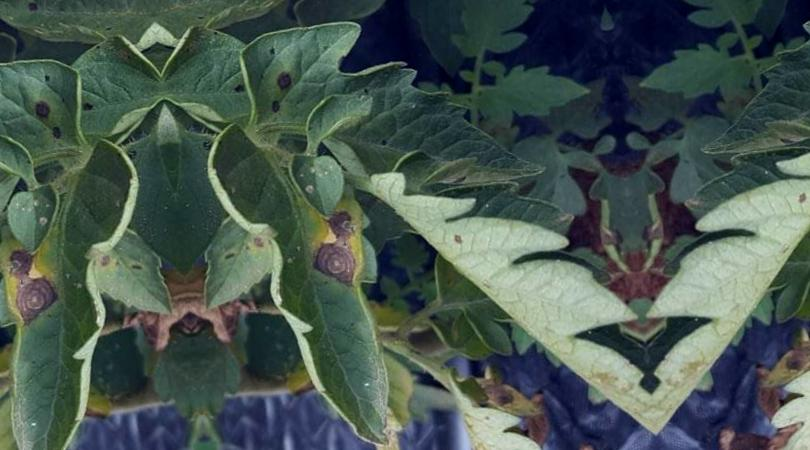Tomato Early blight leaf: (198, 111, 411, 450), (428, 0, 549, 67), (269, 0, 411, 42)
